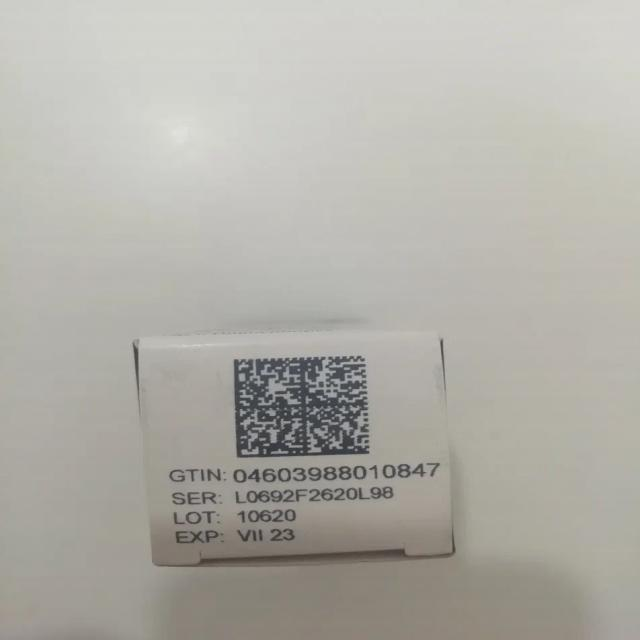datamatrix: (232, 354, 375, 460)
